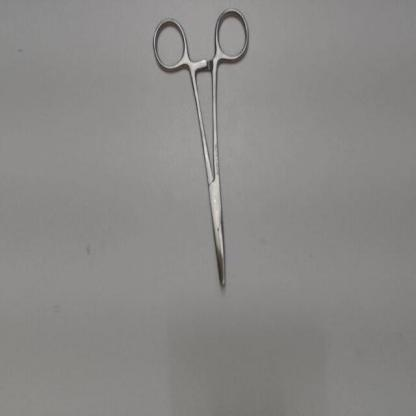Crile Artery Forceps: (146, 2, 252, 296)
